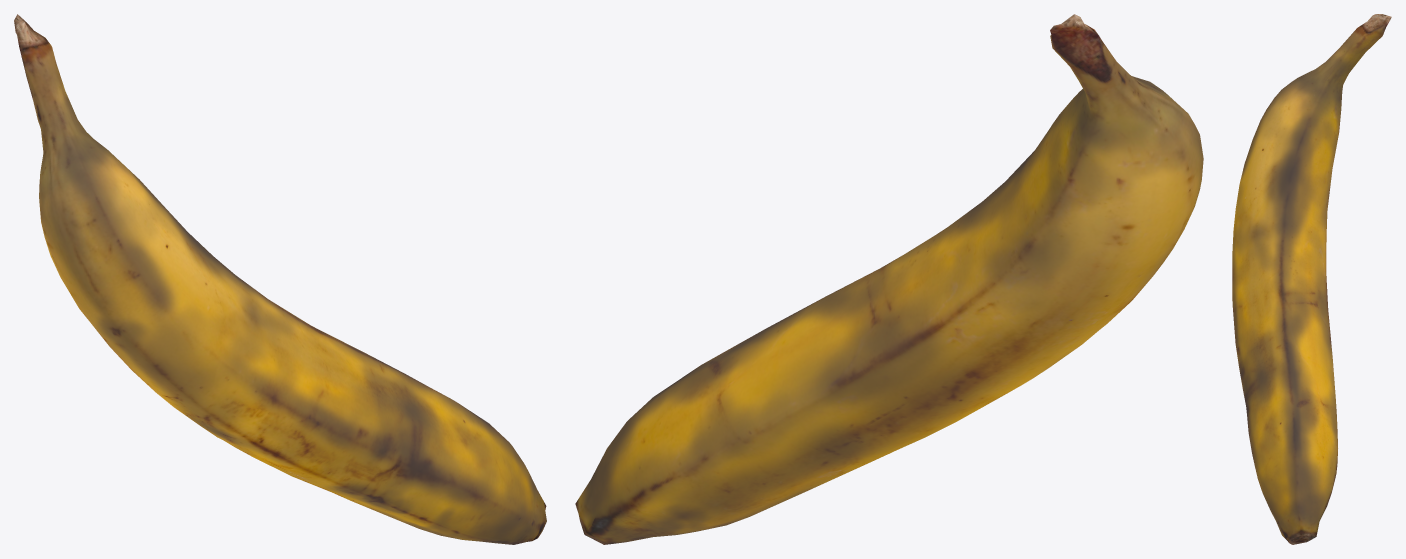
File: banana-bad.gltf
3 views of the same model, side by side, from view 1: azimuth 30°, elevation 25°; view 2: azimuth 150°, elevation 25°; view 3: azimuth 270°, elevation 25° (orthographic). The views are drawn at different scales.
Visible parts, largest first — view 1: mk_banana_bad; view 2: mk_banana_bad; view 3: mk_banana_bad.
Boxes of the visible parts, x1,y1,x2,y2 form: mk_banana_bad: (14, 14, 546, 544); mk_banana_bad: (575, 14, 1203, 544); mk_banana_bad: (1232, 14, 1391, 544).
Size of the model in its own units: 0.0621 by 0.0688 by 0.0257.
Materials: 1 (1 with a texture image).
